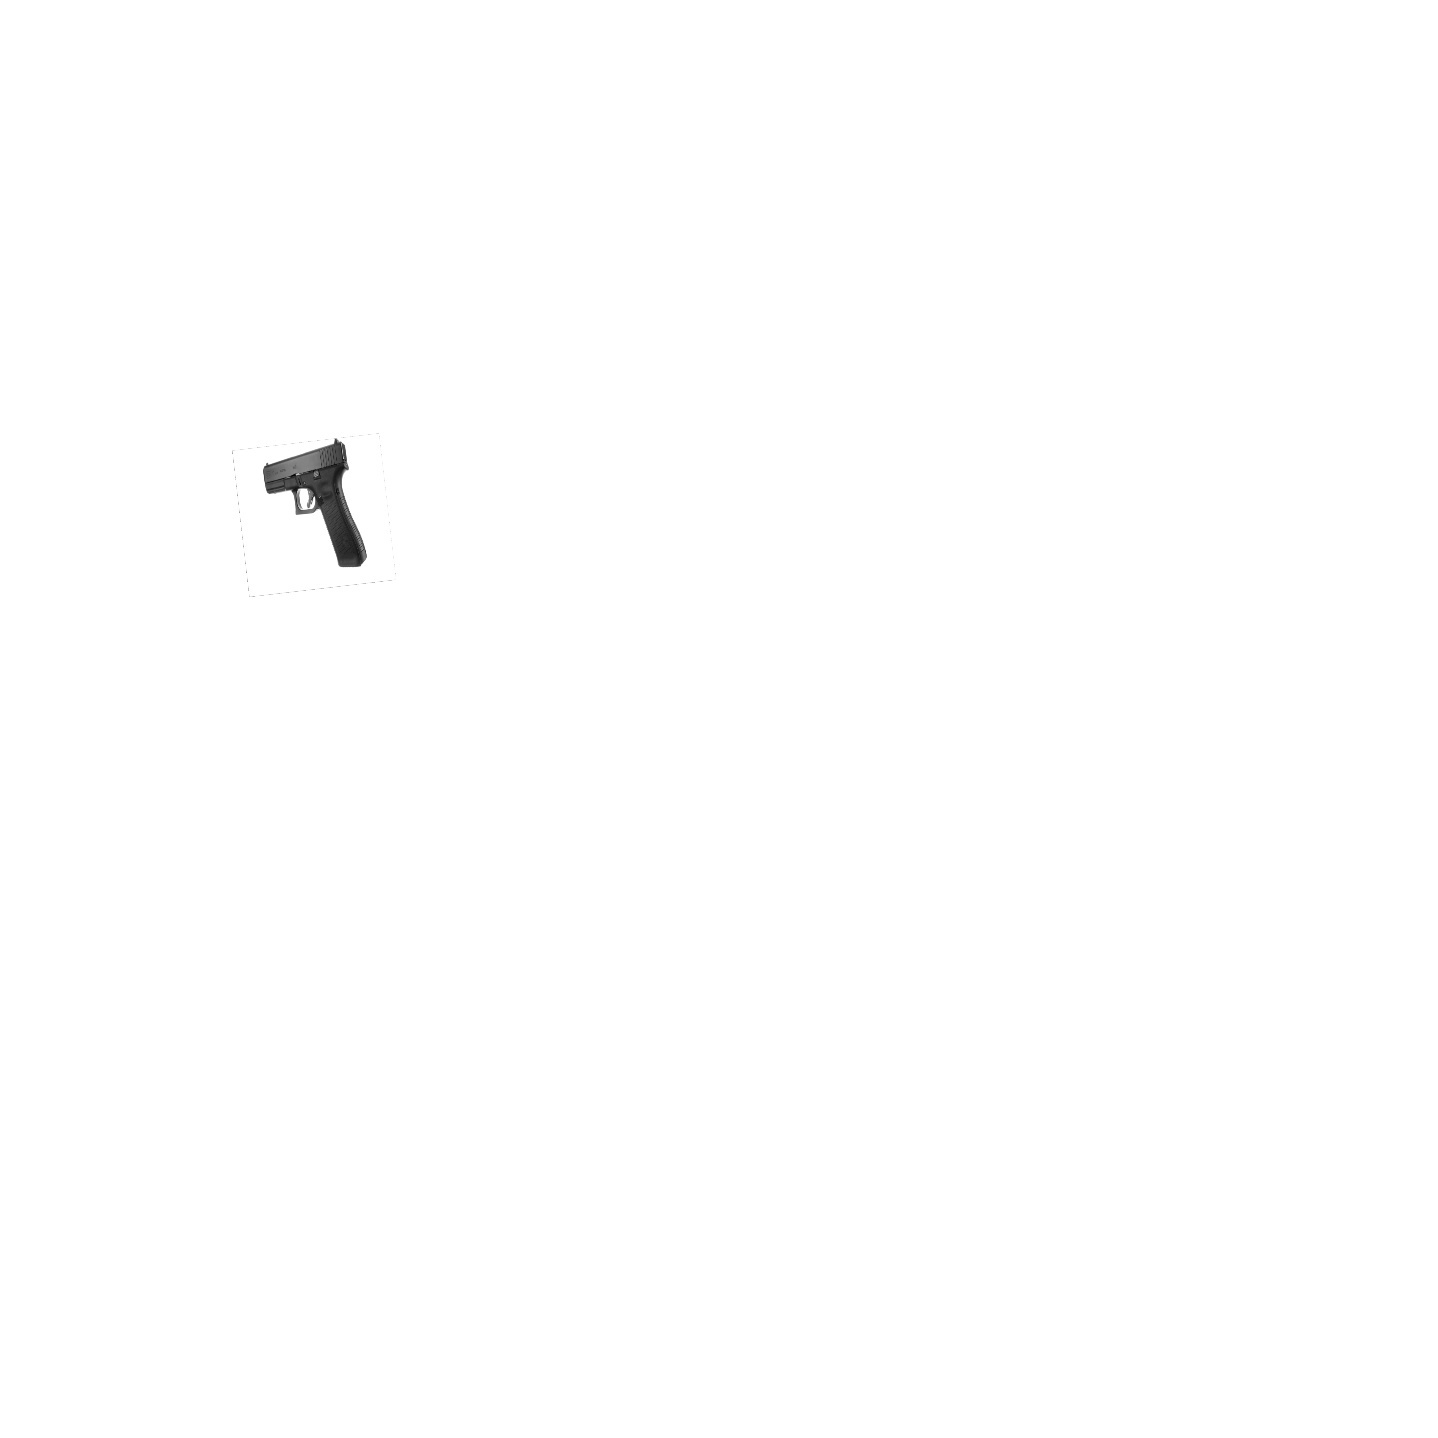gun: (263, 444, 367, 569)
